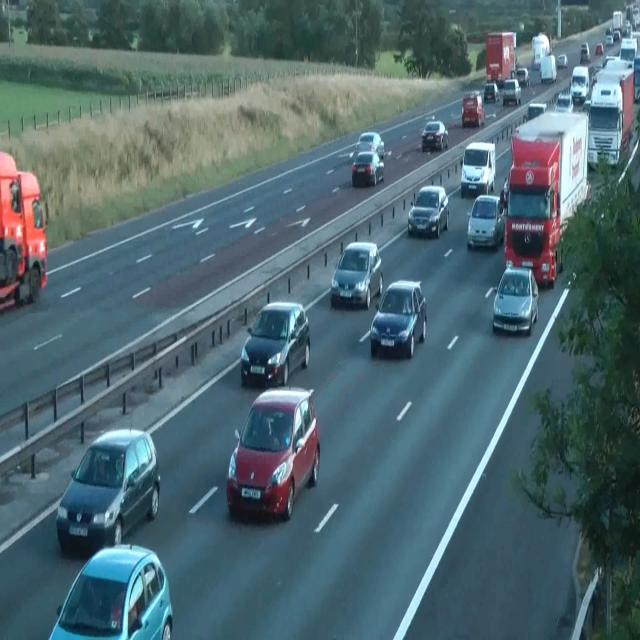bus: (56, 426, 160, 551), (226, 386, 320, 521), (49, 542, 173, 639), (240, 300, 310, 388), (370, 278, 426, 358), (330, 241, 384, 309), (492, 263, 538, 335), (407, 185, 449, 238), (467, 194, 505, 249), (352, 150, 384, 187), (421, 120, 449, 152), (357, 131, 385, 158), (554, 87, 574, 114), (523, 102, 547, 124), (632, 55, 640, 101), (500, 175, 509, 213), (483, 82, 499, 103), (589, 62, 603, 86), (516, 68, 530, 87), (580, 42, 590, 62), (602, 55, 616, 68), (556, 54, 568, 68), (531, 54, 541, 70), (624, 20, 632, 34), (595, 43, 603, 55), (613, 28, 621, 40), (606, 34, 614, 45)
jeep: (460, 140, 496, 197), (461, 91, 485, 127), (569, 64, 589, 104), (502, 77, 521, 106)
minibus: (504, 110, 590, 287), (0, 149, 48, 311), (584, 61, 634, 171), (486, 31, 516, 85), (531, 32, 551, 70), (619, 36, 639, 66), (540, 54, 556, 84), (626, 4, 640, 31), (612, 10, 624, 39)
